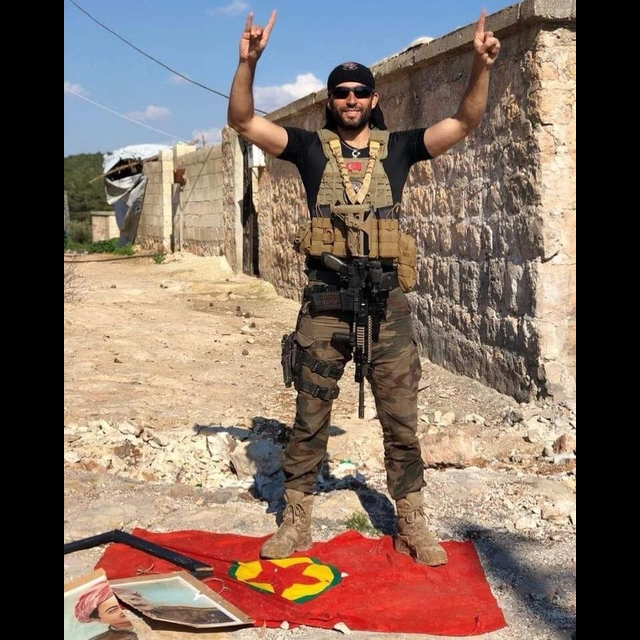PKK: (224, 546, 359, 611)
